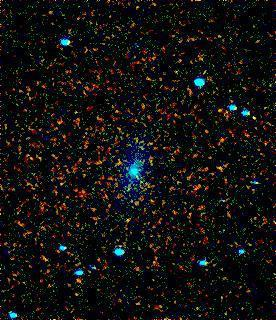star: (204, 96, 234, 126)
